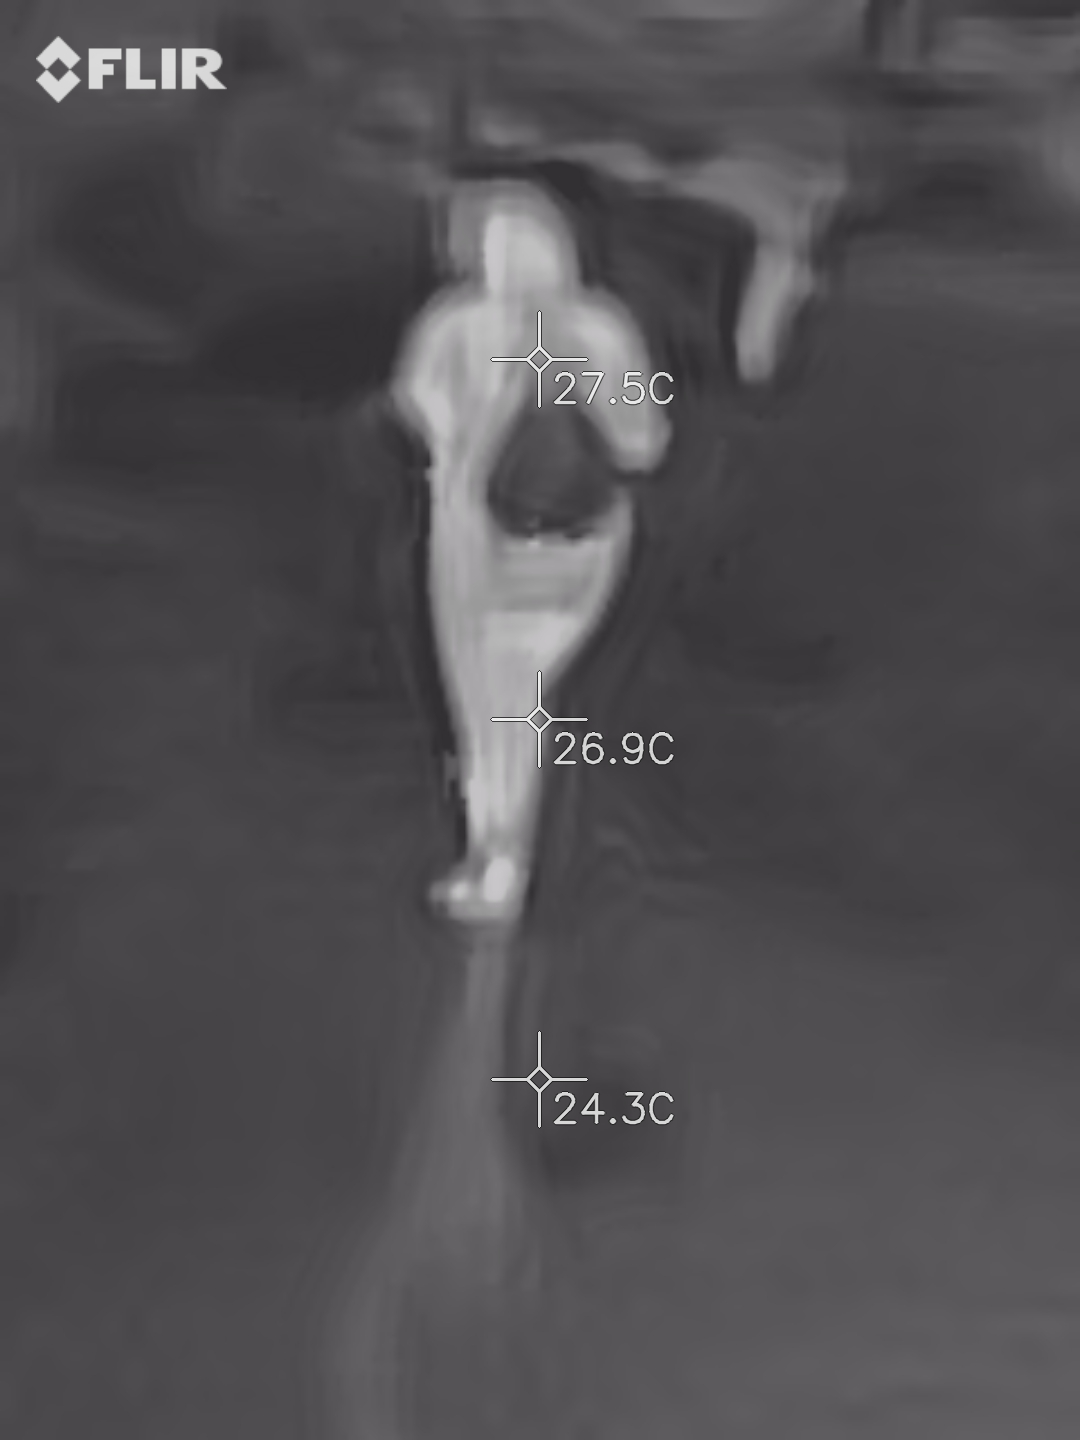head: (481, 199, 563, 303)
